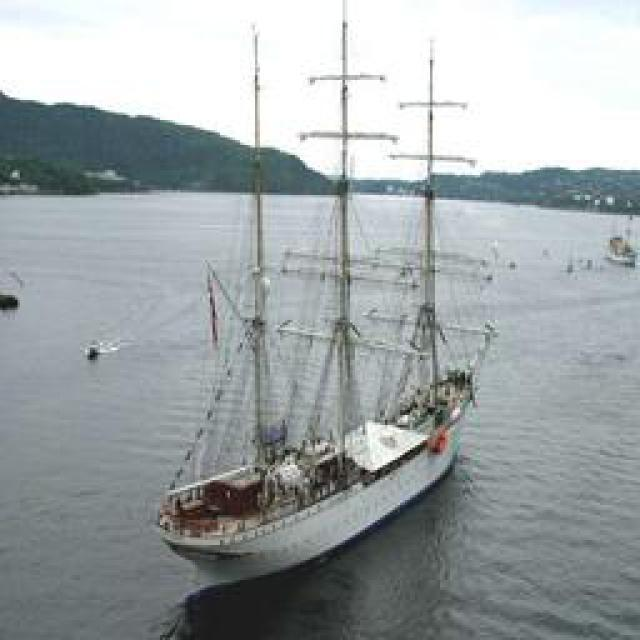Ship: (158, 4, 502, 597), (600, 224, 640, 278), (81, 338, 106, 366)
